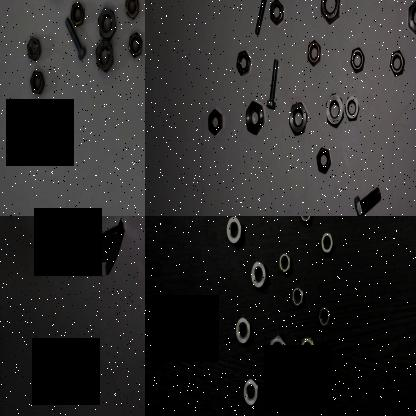Bolts: (62, 10, 88, 58), (93, 216, 126, 252), (350, 185, 382, 216), (249, 0, 273, 36), (266, 54, 280, 114)
NUTS: (266, 330, 289, 372), (91, 38, 117, 74), (242, 98, 266, 134), (96, 6, 118, 44), (323, 90, 345, 128), (286, 99, 308, 136), (240, 375, 262, 408), (315, 0, 342, 25), (298, 332, 316, 368), (233, 314, 253, 344), (250, 255, 266, 291), (125, 29, 142, 62), (223, 216, 242, 245), (22, 34, 40, 64), (347, 43, 365, 72), (305, 36, 321, 68), (206, 106, 223, 136), (344, 91, 360, 122), (318, 228, 333, 259), (388, 49, 404, 78), (314, 144, 330, 173), (67, 0, 85, 25), (315, 304, 332, 330), (235, 48, 250, 76), (405, 0, 416, 36), (30, 66, 43, 96), (269, 0, 283, 27), (123, 0, 139, 21), (298, 216, 314, 223)
